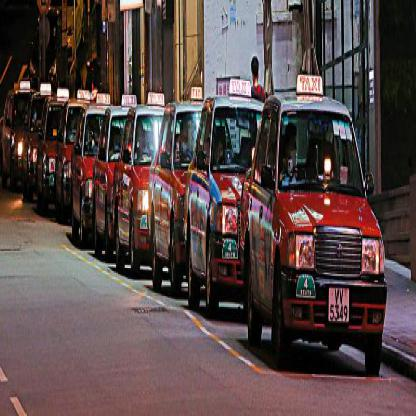taxi: (241, 76, 388, 384), (183, 77, 269, 341)
